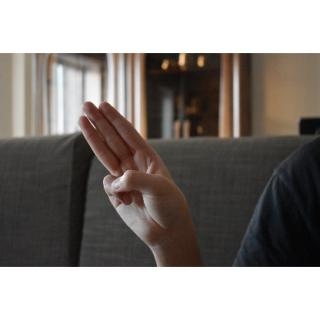THA: (75, 96, 198, 261)
